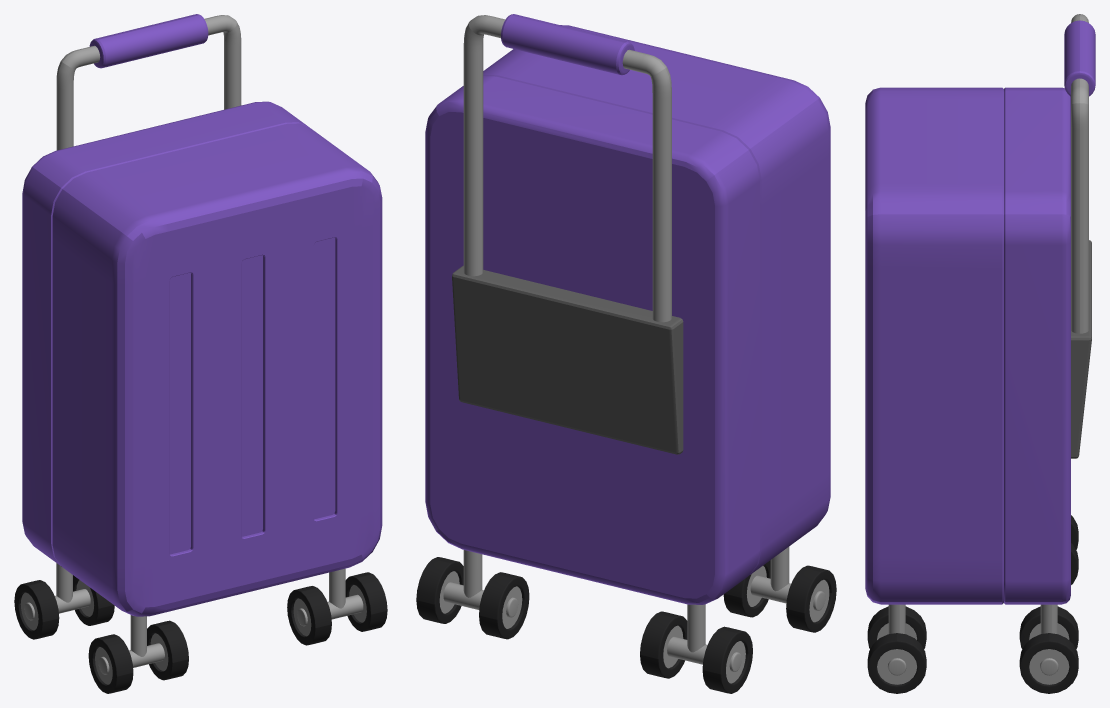
3 renders of one model, left to right at view 1: azimuth 30°, elevation 25°; view 2: azimuth 150°, elevation 25°; view 3: azimuth 270°, elevation 25°, orthographic. The views are drawn at different scales.
Parts seen in each view (by area): view 1: l4; view 2: l4; view 3: l4.
Part boxes in pixels (x1,y1,x2,y2): l4: [14, 14, 387, 693]; l4: [416, 14, 836, 693]; l4: [865, 14, 1095, 693].
Size of the model in its own units: 81.75 by 163 by 58.61.
Materials: 1 (1 with a texture image).
